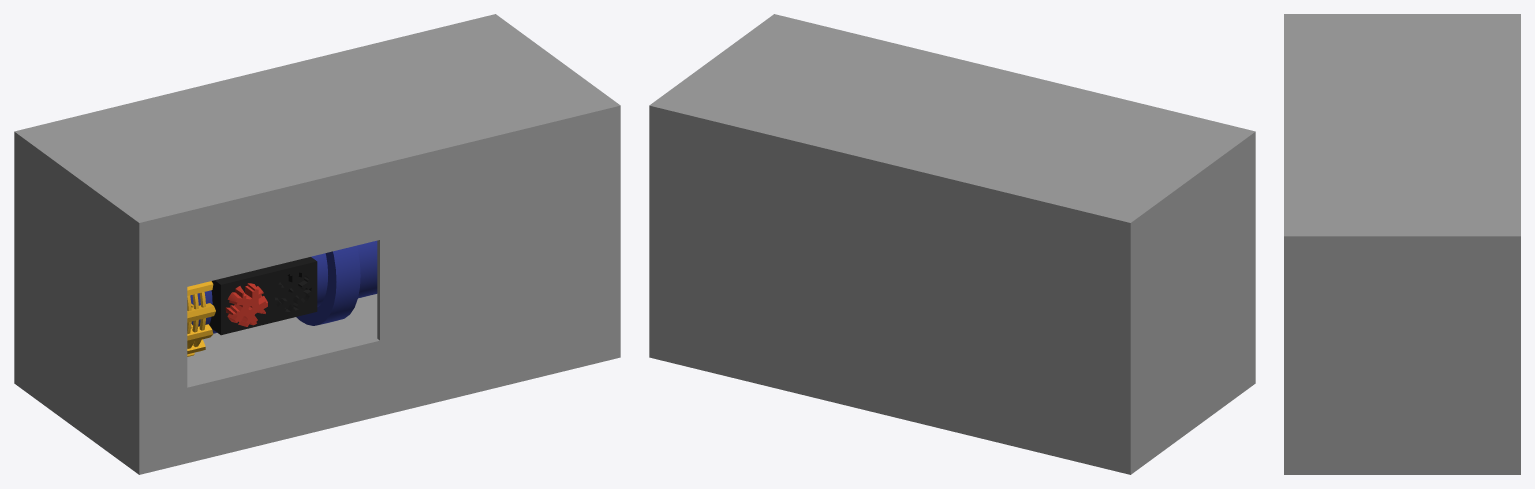
File: Engine v3.fbx
3 views of the same model, side by side, from view 1: azimuth 30°, elevation 25°; view 2: azimuth 150°, elevation 25°; view 3: azimuth 270°, elevation 25° (orthographic). The views are drawn at different scales.
Parts seen in each view (by area): view 1: Body1, Body3, Body2, Body11, Body5; view 2: Body1; view 3: Body1.
Part boxes in pixels (bbox=[...]): Body1: bbox=[14, 14, 620, 474]; Body3: bbox=[209, 257, 317, 335]; Body2: bbox=[190, 240, 377, 333]; Body11: bbox=[187, 281, 215, 356]; Body5: bbox=[225, 283, 267, 326]; Body1: bbox=[649, 14, 1255, 474]; Body1: bbox=[1284, 14, 1520, 474].
Size of the model in its own units: 10 by 5 by 4.5.
